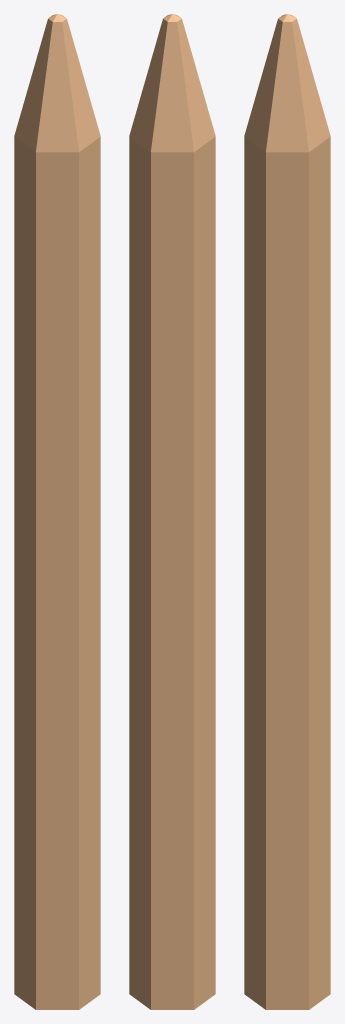
File: pencil.fbx
3 renders of one model, left to right at view 1: azimuth 90°, elevation 25°; view 2: azimuth 150°, elevation 25°; view 3: azimuth 270°, elevation 25°, orthographic.
Visible parts, largest first — view 1: Pencil; view 2: Pencil; view 3: Pencil.
Part boxes in pixels (x1,y1,x2,y2): Pencil: (14, 14, 100, 1009); Pencil: (129, 14, 215, 1009); Pencil: (244, 14, 330, 1009).
Size of the model in its own units: 0.6062 by 8.74 by 0.7.
